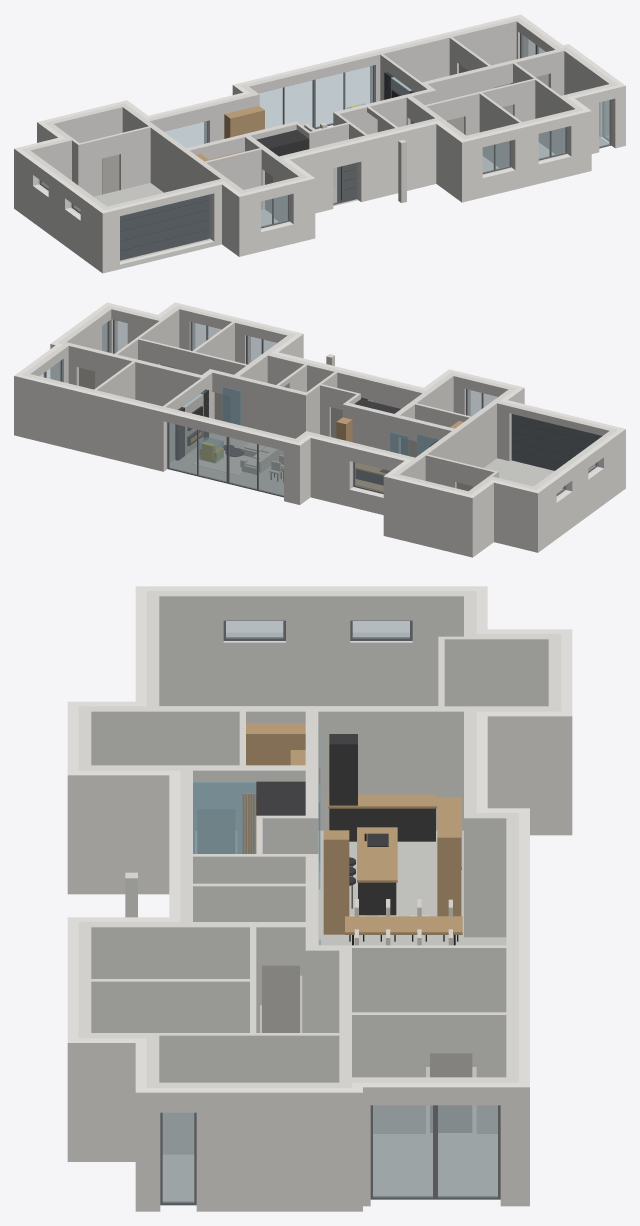
Rendered from dom_wnetrze.glb.
The picture shows the model from 3 angles, top to bottom: view 1: azimuth 30°, elevation 25°; view 2: azimuth 150°, elevation 25°; view 3: azimuth 270°, elevation 25°; orthographic projection. The views are drawn at different scales.
Visible parts, largest first — view 1: SCIANY_rdzenie_02, IZ_12_z_2738_3100, SCIANY_rdzenie_06, DR01_brama_panel, SCIANY_rdzenie_11, IZ_02_z_238_900_05, SCIANY_rdzenie_09, W09_O6_pokoj_10_szklo, SCIANY_rdzenie_10, IZ_04_z_1000_1888_08, IZ_04_z_1000_1888_01, SCIANY_rdzenie_07 (+38 smaller); view 2: SCIANY_rdzenie_02, IZ_12_z_2738_3100, SCIANY_rdzenie_11, IZ_02_z_238_900_01, IZ_04_z_1000_1888_01, SCIANY_rdzenie_06, SCIANY_rdzenie_09, DR01_brama_panel, IZ_04_z_1000_1888_03, W09_O6_pokoj_10_szklo, W10_O7_pokoj_10_szklo, SCIANY_rdzenie_01 (+44 smaller); view 3: SCIANY_rdzenie_02, IZ_12_z_2738_3100, SCIANY_rdzenie_06, SCIANY_rdzenie_11, SCIANY_rdzenie_09, SCIANY_rdzenie_10, SCIANY_rdzenie_04, SCIANY_rdzenie_03, R08_Sypialnia_posadzka, IZ_04_z_1000_1888_04, SCIANY_rdzenie_05, W07_O4_pokoj_08_szklo (+50 smaller).
Boxes of the visible parts, bbox=[...] form: SCIANY_rdzenie_02: bbox=[22, 103, 320, 239]; IZ_12_z_2738_3100: bbox=[14, 14, 625, 220]; SCIANY_rdzenie_06: bbox=[373, 17, 523, 103]; DR01_brama_panel: bbox=[120, 194, 209, 260]; SCIANY_rdzenie_11: bbox=[333, 94, 479, 199]; IZ_02_z_238_900_05: bbox=[358, 135, 599, 197]; SCIANY_rdzenie_09: bbox=[510, 56, 595, 153]; W09_O6_pokoj_10_szklo: bbox=[315, 65, 373, 127]; SCIANY_rdzenie_10: bbox=[464, 88, 535, 167]; IZ_04_z_1000_1888_08: bbox=[358, 147, 482, 183]; IZ_04_z_1000_1888_01: bbox=[14, 172, 119, 253]; SCIANY_rdzenie_07: bbox=[548, 45, 605, 136]; SCIANY_rdzenie_02: bbox=[342, 384, 551, 494]; IZ_12_z_2738_3100: bbox=[14, 302, 625, 504]; SCIANY_rdzenie_11: bbox=[225, 331, 349, 438]; IZ_02_z_238_900_01: bbox=[284, 471, 625, 552]; IZ_04_z_1000_1888_01: bbox=[383, 452, 625, 538]; SCIANY_rdzenie_06: bbox=[22, 359, 214, 469]; SCIANY_rdzenie_09: bbox=[95, 305, 191, 388]; DR01_brama_panel: bbox=[511, 414, 602, 470]; IZ_04_z_1000_1888_03: bbox=[14, 399, 166, 452]; W09_O6_pokoj_10_szklo: bbox=[169, 423, 226, 481]; W10_O7_pokoj_10_szklo: bbox=[229, 437, 283, 495]; SCIANY_rdzenie_01: bbox=[374, 372, 467, 414]; SCIANY_rdzenie_02: bbox=[78, 591, 561, 853]; IZ_12_z_2738_3100: bbox=[67, 586, 572, 1106]; SCIANY_rdzenie_06: bbox=[305, 941, 518, 1133]; SCIANY_rdzenie_11: bbox=[78, 844, 318, 1032]; SCIANY_rdzenie_09: bbox=[78, 1013, 351, 1154]; SCIANY_rdzenie_10: bbox=[78, 965, 256, 1032]; SCIANY_rdzenie_04: bbox=[146, 591, 223, 705]; SCIANY_rdzenie_03: bbox=[286, 591, 350, 705]; R08_Sypialnia_posadzka: bbox=[373, 1134, 497, 1195]; IZ_04_z_1000_1888_04: bbox=[196, 1134, 370, 1173]; SCIANY_rdzenie_05: bbox=[464, 770, 518, 937]; W07_O4_pokoj_08_szklo: bbox=[373, 1105, 432, 1196].
Size of the model in its own units: 28.3 by 3.1 by 11.92.
